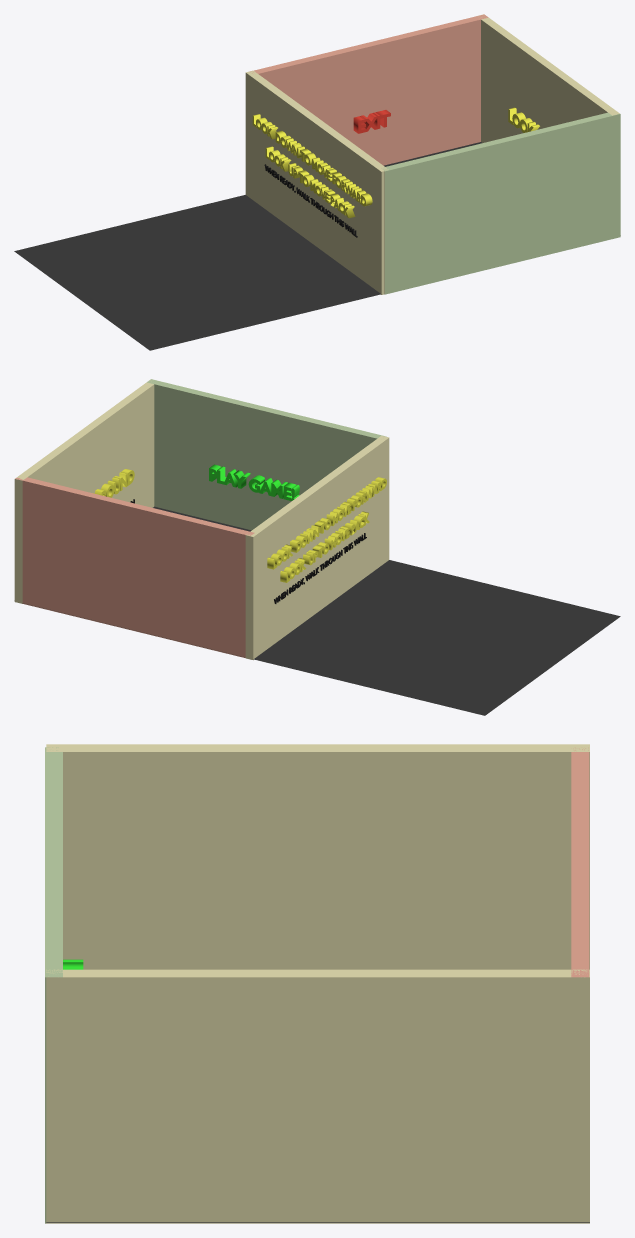
Rendered from Menu.gltf.
The picture shows the model from 3 angles, top to bottom: view 1: azimuth 30°, elevation 25°; view 2: azimuth 150°, elevation 25°; view 3: azimuth 270°, elevation 25°; orthographic projection. The views are drawn at different scales.
Parts seen in each view (by area): view 1: Plane, Cube.002, Cube.001, Cube, Cube.003, Quit.003, Quit.004, Quit.005, Quit; view 2: Plane, Cube.001, Cube.002, Cube, Cube.003, Quit.003, Play Game, Quit.004, Quit.005, Quit.001; view 3: Cube.003, Cube, Cube.002, Cube.001.
Boxes of the visible parts, x1,y1,x2,y2 form: Plane: (14, 142, 482, 350); Cube.002: (381, 112, 620, 294); Cube.001: (250, 14, 488, 165); Cube: (245, 70, 388, 294); Cube.003: (479, 14, 619, 142); Quit.003: (252, 114, 372, 206); Quit.004: (265, 146, 355, 218); Quit.005: (264, 164, 357, 237); Quit: (353, 110, 390, 133); Plane: (23, 506, 620, 715); Cube.001: (15, 477, 254, 657); Cube.002: (147, 379, 386, 530); Cube: (245, 435, 389, 660); Cube.003: (14, 380, 154, 603); Quit.003: (267, 477, 386, 569); Play Game: (209, 464, 299, 500); Quit.004: (280, 511, 369, 582); Quit.005: (274, 533, 366, 603); Quit.001: (92, 469, 134, 497); Cube.003: (46, 969, 589, 1223); Cube: (46, 744, 589, 969); Cube.002: (45, 747, 62, 1223); Cube.001: (571, 747, 589, 977).
Size of the model in its own units: 30 by 7.5 by 15.04.
